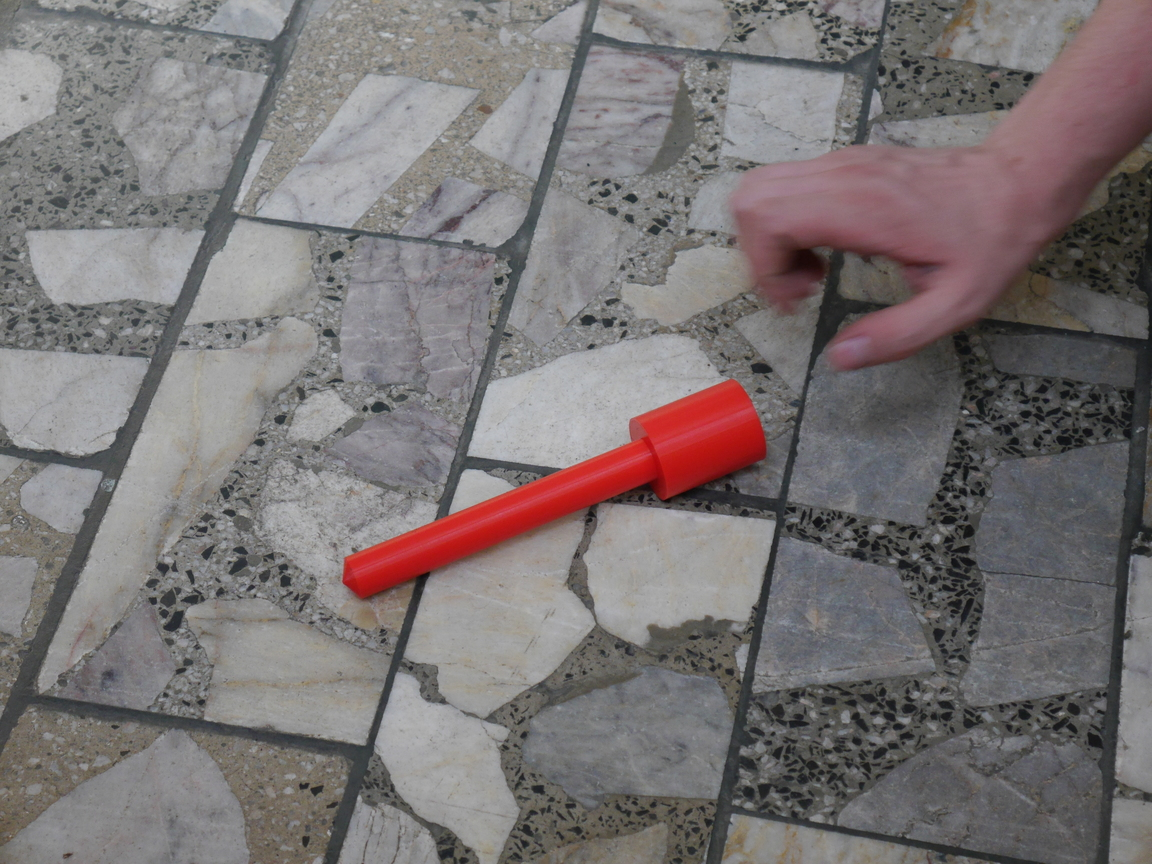cargo_g: (338, 379, 770, 600)
